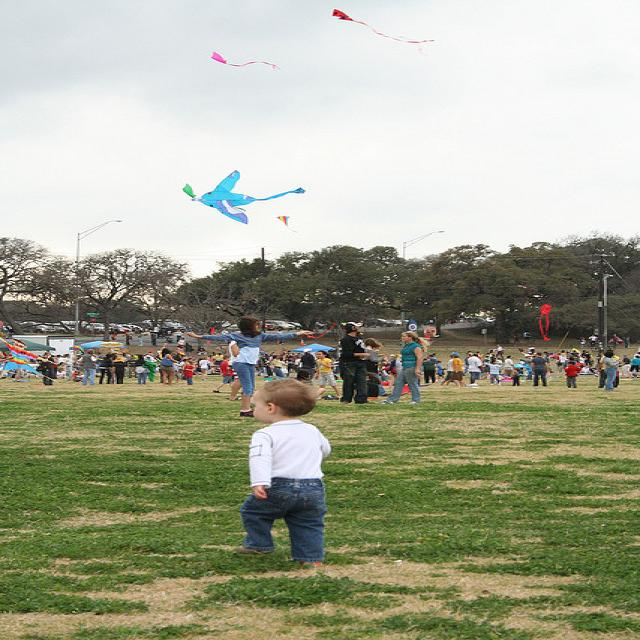Vehicle: (103, 317, 417, 334), (142, 319, 186, 333), (18, 323, 55, 333), (44, 322, 69, 334), (217, 322, 239, 335), (266, 321, 295, 330), (364, 318, 394, 326), (64, 325, 90, 334), (90, 323, 106, 333), (114, 326, 130, 334), (288, 322, 303, 330), (133, 322, 150, 328), (347, 322, 363, 328), (265, 323, 273, 329)
